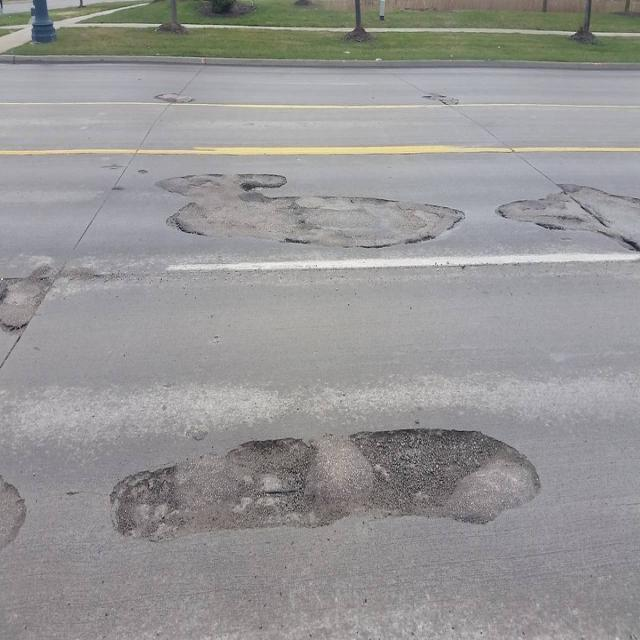pothole: (108, 423, 542, 549), (153, 170, 467, 252), (493, 179, 640, 254), (0, 271, 53, 336), (0, 473, 30, 554)
